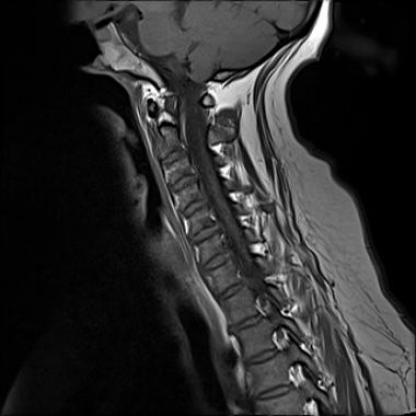Disc Herniationrotation: (186, 225, 225, 242)
Disc Protrusionrotation: (168, 176, 199, 192)
